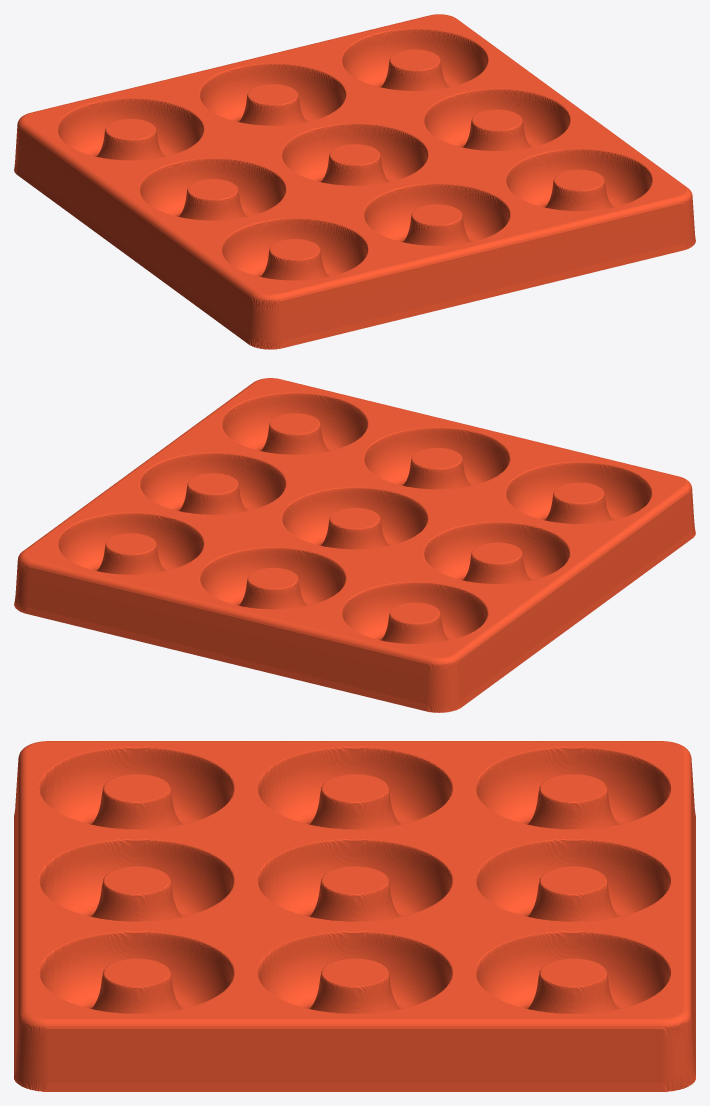
Rendered from mold.glb.
3 renders of one model, top to bottom at view 1: azimuth 30°, elevation 25°; view 2: azimuth 150°, elevation 25°; view 3: azimuth 270°, elevation 25°, orthographic. The views are drawn at different scales.
Parts seen in each view (by area): view 1: geometry_0; view 2: geometry_0; view 3: geometry_0.
Part boxes in pixels (x1,y1,x2,y2): geometry_0: [14, 14, 695, 349]; geometry_0: [14, 378, 695, 712]; geometry_0: [14, 741, 695, 1091].
Size of the model in its own units: 0.1804 by 0.0197 by 0.1804.
